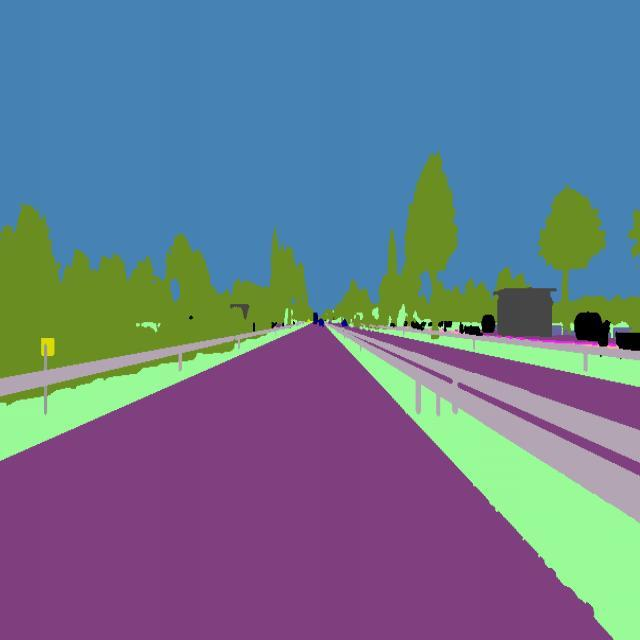safe: (310, 308, 320, 328), (341, 317, 352, 332), (318, 320, 326, 328)
